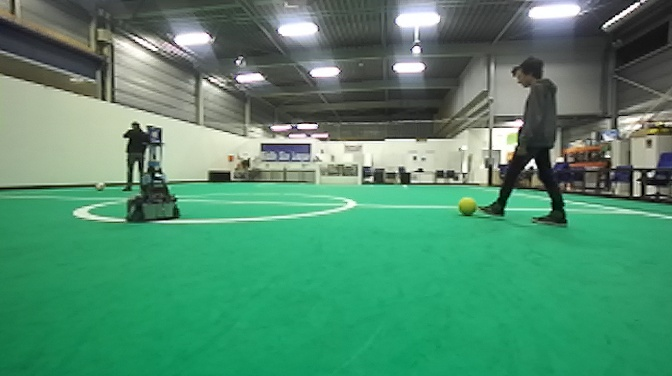ball: (455, 196, 478, 218), (93, 180, 108, 194)
goal: (314, 159, 363, 188)
goalpost: (313, 160, 321, 187), (356, 160, 362, 187)
human: (479, 51, 572, 233), (120, 119, 154, 198)
robot: (123, 139, 182, 226)
